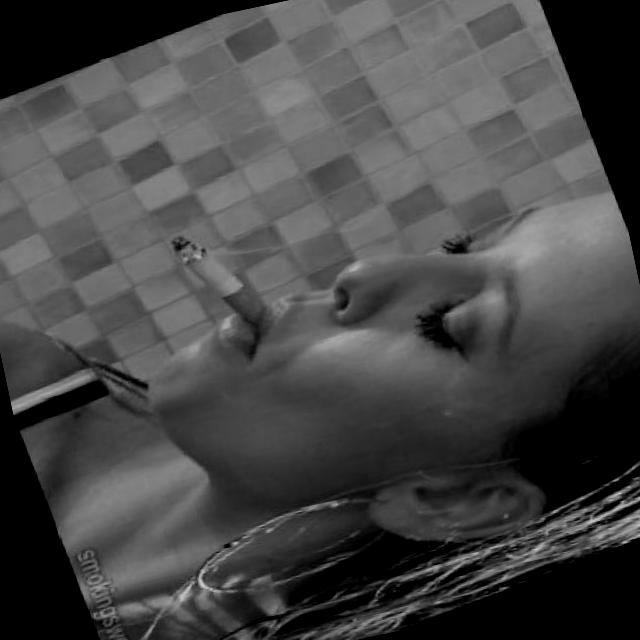cigarette: (158, 210, 280, 352)
